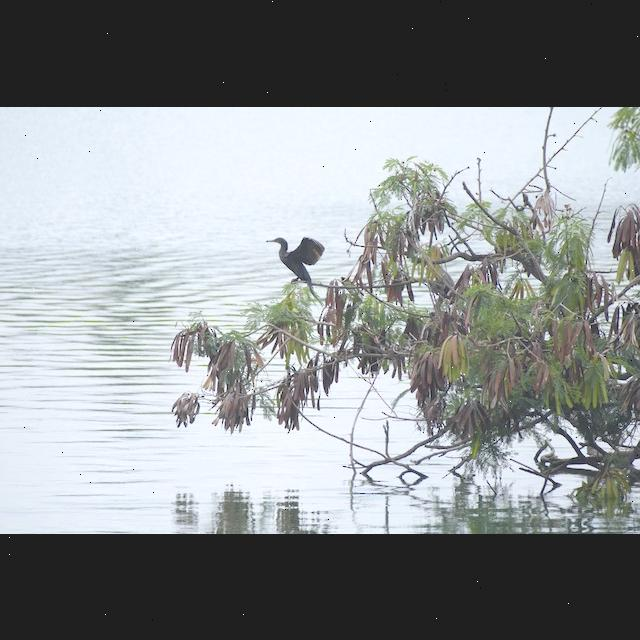cormorant: (265, 234, 325, 284)
